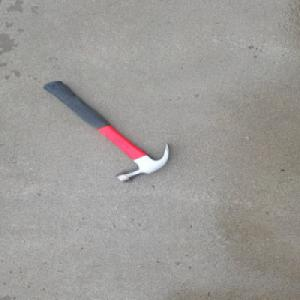Hammer: (41, 79, 172, 183)
